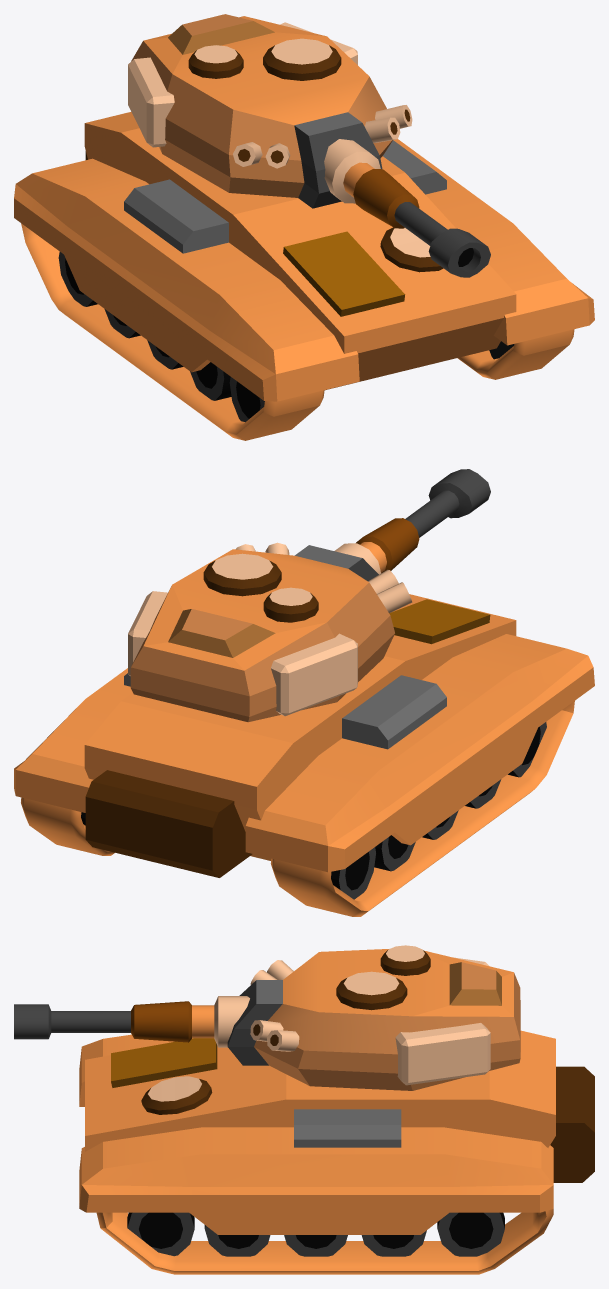
File: Tank2.fbx
3 views of the same model, one above another, from view 1: azimuth 30°, elevation 25°; view 2: azimuth 150°, elevation 25°; view 3: azimuth 270°, elevation 25° (orthographic). The views are drawn at different scales.
Visible parts, largest first — view 1: Body, Top, Tie_R, Barrel, Tie_L; view 2: Body, Top, Tie_R, Back, Barrel, Tie_L; view 3: Body, Top, Tie_L, Barrel, Back.
Part boxes in pixels (box(x1,y1,x2,y2)): Body: box(14, 112, 594, 401); Top: box(128, 14, 412, 208); Tie_R: box(21, 223, 324, 440); Barrel: box(324, 139, 490, 277); Tie_L: box(457, 329, 574, 379); Body: box(14, 594, 594, 872); Top: box(128, 542, 412, 722); Tie_R: box(270, 701, 574, 916); Back: box(85, 770, 252, 877); Barrel: box(334, 469, 490, 574); Tie_L: box(21, 797, 114, 855); Body: box(79, 1030, 555, 1234); Top: box(227, 945, 520, 1090); Tie_L: box(96, 1209, 553, 1274); Barrel: box(14, 996, 249, 1047); Back: box(550, 1066, 594, 1182).
Bounding box in the file's own units: 208 × 158 × 349.
